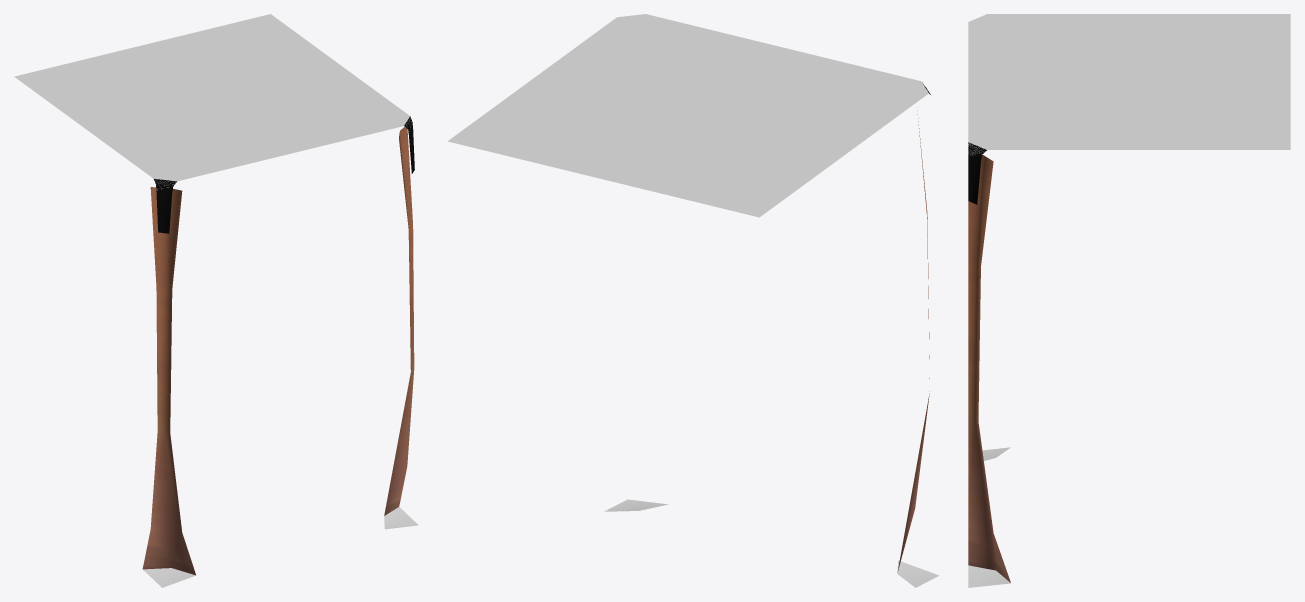
The picture shows the model from 3 angles, left to right: view 1: azimuth 30°, elevation 25°; view 2: azimuth 150°, elevation 25°; view 3: azimuth 270°, elevation 25°; orthographic projection. The views are drawn at different scales.
Parts seen in each view (by area): view 1: GrassT__mGrass, CliffThin_1__mCliff, GrassOP_1__mGrassCliffXlu, GrassB_1__mGrass; view 2: GrassT__mGrass, GrassB_1__mGrass, CliffThin_1__mCliff; view 3: GrassT__mGrass, CliffThin_1__mCliff, GrassB_1__mGrass, GrassOP_1__mGrassCliffXlu.
Part boxes in pixels (x1,y1,x2,y2): GrassT__mGrass: (14,14,411,190); CliffThin_1__mCliff: (142,127,414,575); GrassOP_1__mGrassCliffXlu: (154,116,414,233); GrassB_1__mGrass: (143,507,418,587); GrassT__mGrass: (447,14,928,217); GrassB_1__mGrass: (604,499,938,587); CliffThin_1__mCliff: (897,114,929,571); GrassT__mGrass: (968,14,1290,155); CliffThin_1__mCliff: (968,155,1010,582); GrassB_1__mGrass: (968,447,1010,587); GrassOP_1__mGrassCliffXlu: (968,142,986,204).
Size of the model in its own units: 10 by 15 by 10.
Materials: 3 (1 with a texture image).
